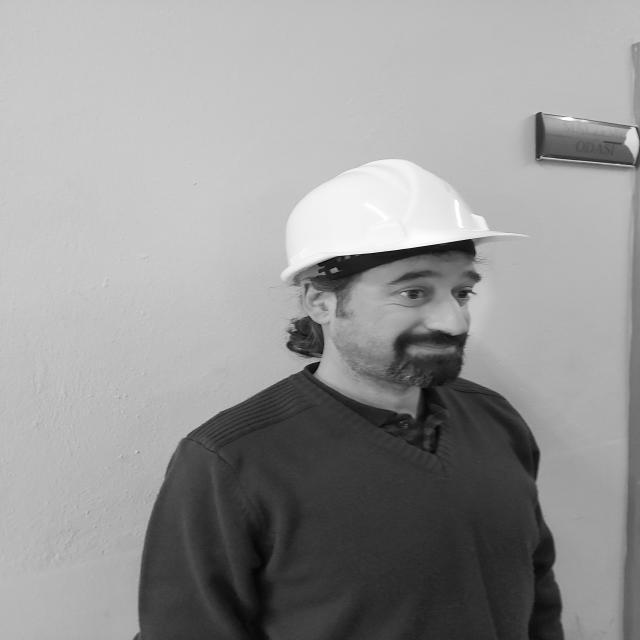safety_helmet: (281, 160, 513, 285)
